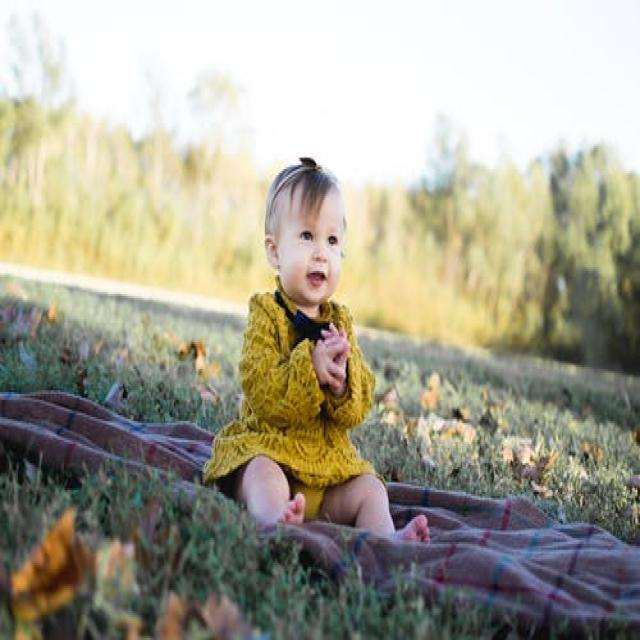non-dog: (196, 157, 431, 546)
